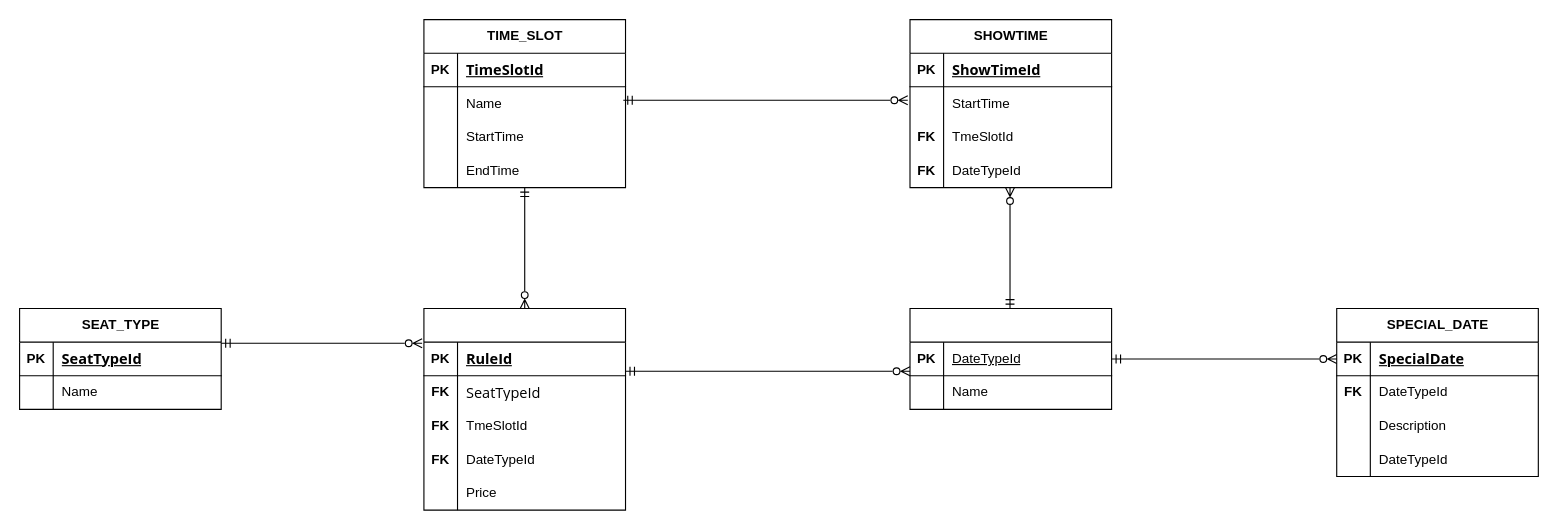
This 1558x530 diagram has some shape labels left out. Each missing label, with the box of its shape:
DAY_TYPE: (909, 307, 1112, 409)
PRICE_RULE: (423, 307, 626, 510)
